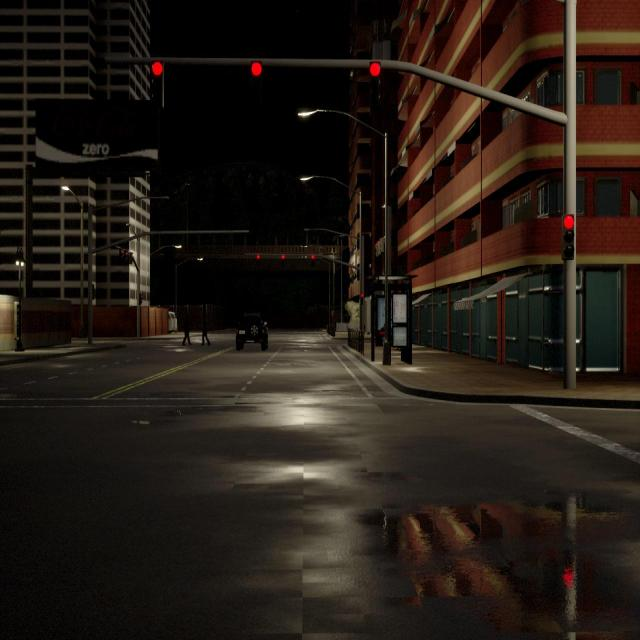Pedestrian: (182, 314, 192, 346), (200, 317, 210, 346)
Vehicle: (235, 314, 268, 351), (168, 312, 177, 333)
traffic_light: (562, 214, 574, 260), (151, 61, 163, 107), (370, 62, 382, 106), (250, 61, 262, 100), (119, 248, 124, 266), (124, 250, 129, 266), (139, 293, 143, 305), (130, 253, 134, 264), (361, 293, 364, 305), (281, 254, 286, 260), (256, 254, 260, 260), (311, 254, 315, 260)
